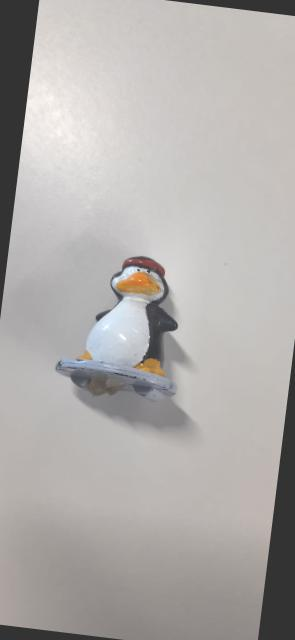Penguin: (56, 241, 192, 405)
